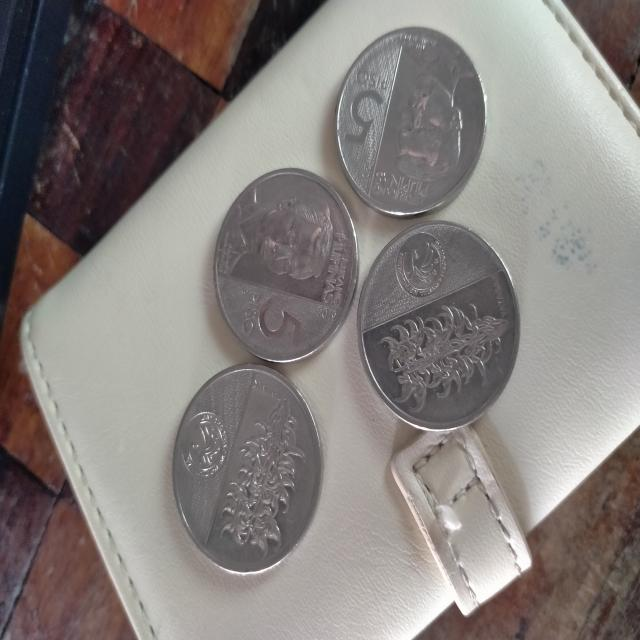5_New_Back: (217, 397, 310, 559), (384, 298, 501, 409)
5_New_Front: (332, 50, 399, 169), (243, 276, 316, 363)
